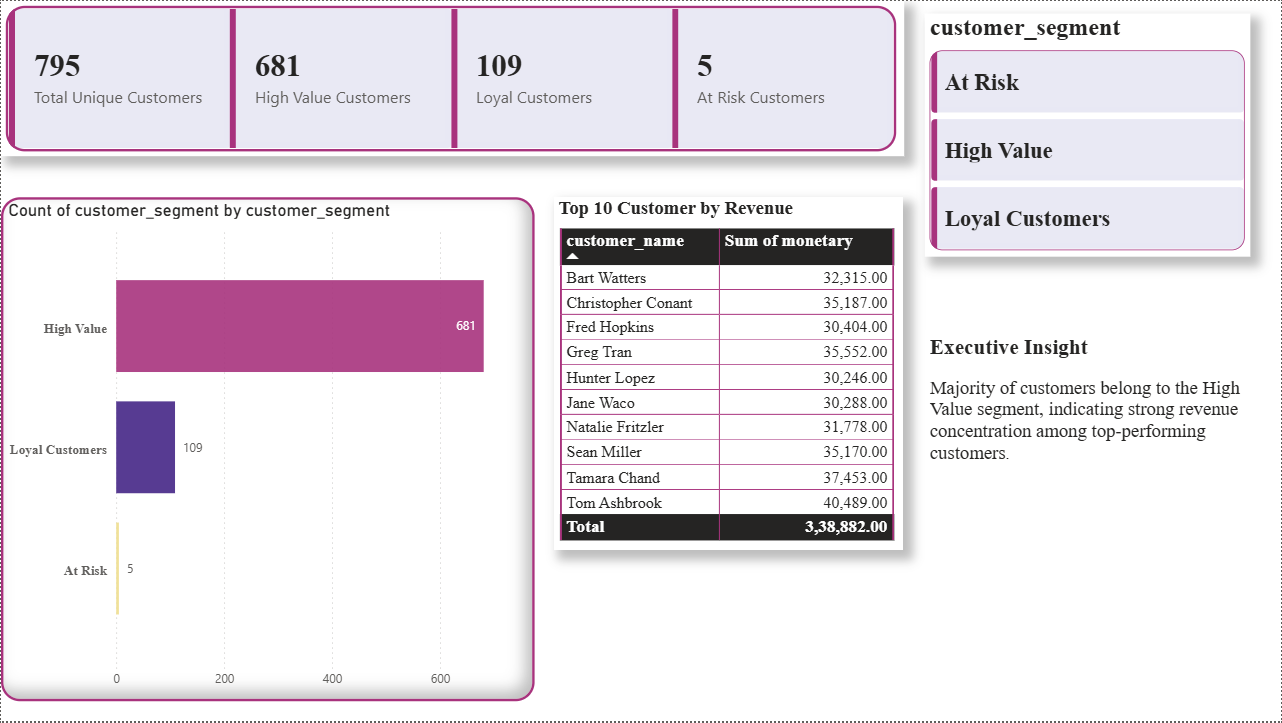

What the dashboard file says about the page in this screenshot:
{"tool":"powerbi","page":{"name":"Page 1","canvas":[1280,720],"ordinal":0},"visuals":[{"type":"cardVisual","fields":{"Data":["public customer_rfm.Total Customers","public customer_rfm.High Value Customers","public customer_rfm.Loyal Customers","public customer_rfm.At Risk Customers"]},"box":[0,0,902.9,155.1],"z":0},{"type":"barChart","fields":{"Category":["public customer_rfm.customer_segment"],"Y":["public customer_rfm.customer_segment"]},"box":[0,196.2,533.8,503.6],"z":1000},{"type":"tableEx","title":"Top 10 Customer by  Revenue","fields":{"Values":["public customer_rfm.customer_name","public customer_rfm.monetary"]},"box":[553,196.2,349.9,352.7],"z":2000},{"type":"advancedSlicerVisual","fields":{"Values":["public customer_rfm.customer_segment"]},"box":[923.5,12.3,325.2,242.9],"z":3000},{"type":"textbox","box":[923.5,329.3,325.2,238.8],"z":4000}]}

Visuals, with their boxes in screenshot pixels (x1, y1, x2, y2), scaled from the page's 1280x720 canvas onto the 1282x723 screenshot:
cardVisual - public customer_rfm.Total Customers x public customer_rfm.High Value Customers: <bbox>0, 0, 904, 156</bbox>
barChart - public customer_rfm.customer_segment x public customer_rfm.customer_segment: <bbox>0, 197, 535, 703</bbox>
"Top 10 Customer by  Revenue" tableEx: <bbox>554, 197, 904, 551</bbox>
advancedSlicerVisual - public customer_rfm.customer_segment: <bbox>925, 12, 1251, 256</bbox>
textbox: <bbox>925, 331, 1251, 570</bbox>
